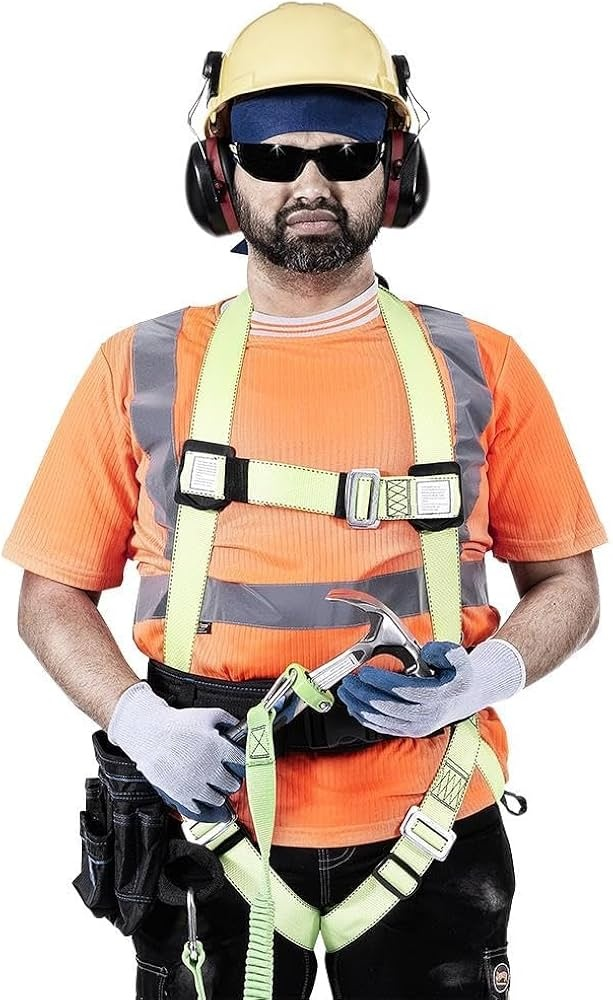Helmet: (200, 2, 405, 115)
No_goggles: (226, 135, 382, 189)
Person: (111, 0, 499, 1000)
Safety_Harness: (133, 296, 509, 996)
